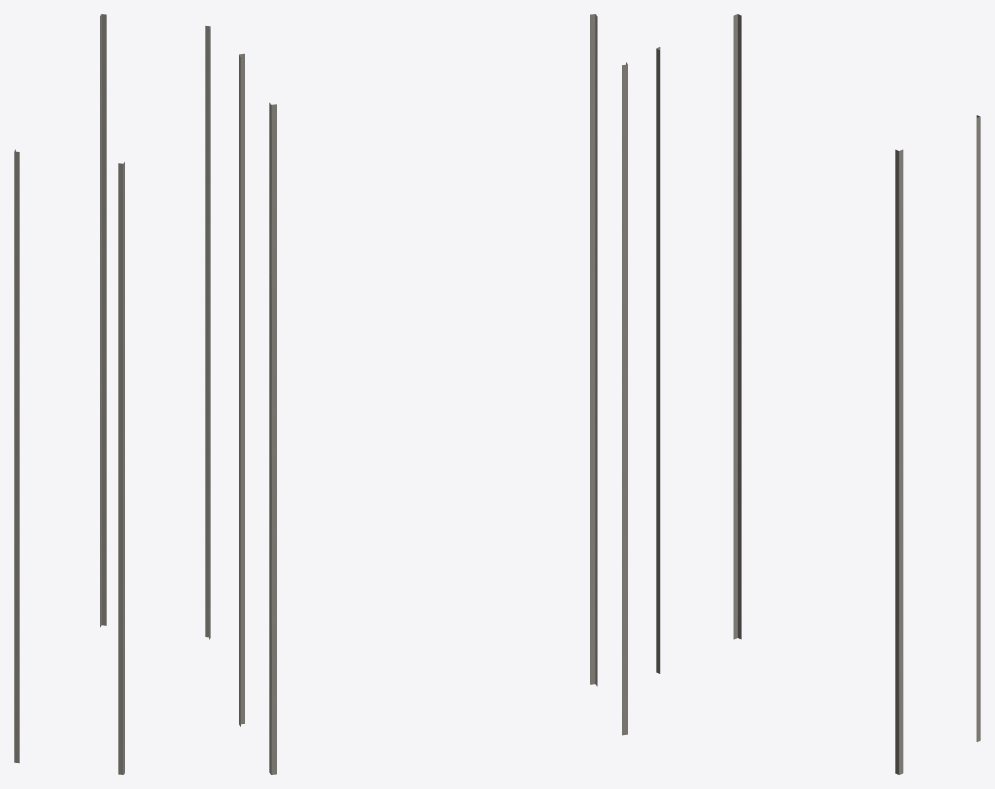
The model's file is shelf_0301_t50_h2400_w1200.glb.
3 renders of one model, left to right at view 1: azimuth 30°, elevation 25°; view 2: azimuth 150°, elevation 25°; view 3: azimuth 270°, elevation 25°, orthographic. The views are drawn at different scales.
Parts seen in each view (by area): view 1: shelf_0301_t50_h2400_w1200; view 2: shelf_0301_t50_h2400_w1200; view 3: shelf_0301_t50_h2400_w1200.
Part boxes in pixels (x1,y1,x2,y2): shelf_0301_t50_h2400_w1200: (14, 14, 210, 774); shelf_0301_t50_h2400_w1200: (239, 14, 627, 774); shelf_0301_t50_h2400_w1200: (656, 14, 980, 774).
Size of the model in its own units: 1.13 by 2.4 by 1.13.
1 material, 1 textured.
